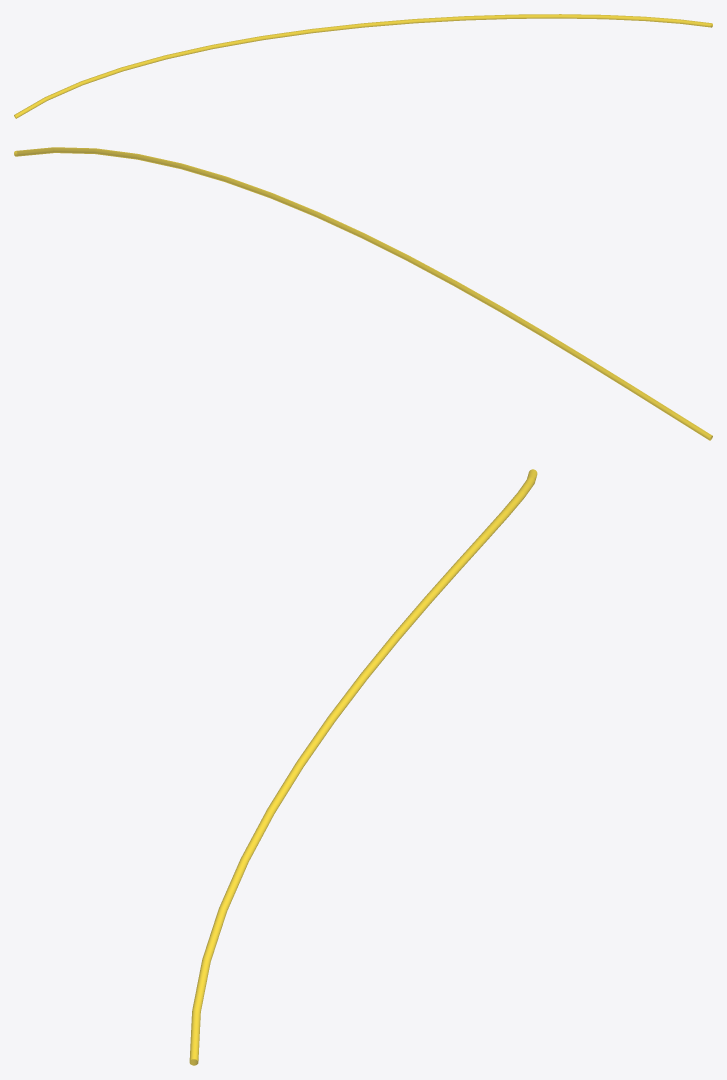
The model's file is Event_84804159_track_78.fbx.
3 renders of one model, top to bottom at view 1: azimuth 30°, elevation 25°; view 2: azimuth 150°, elevation 25°; view 3: azimuth 270°, elevation 25°, orthographic. The views are drawn at different scales.
Parts seen in each view (by area): view 1: Model; view 2: Model; view 3: Model.
Part boxes in pixels (<box>): Model: <box>14,14,712,118</box>; Model: <box>14,147,712,440</box>; Model: <box>189,469,537,1065</box>.
Bounding box in the file's own units: 6.4 × 0.515 × 1.57.
